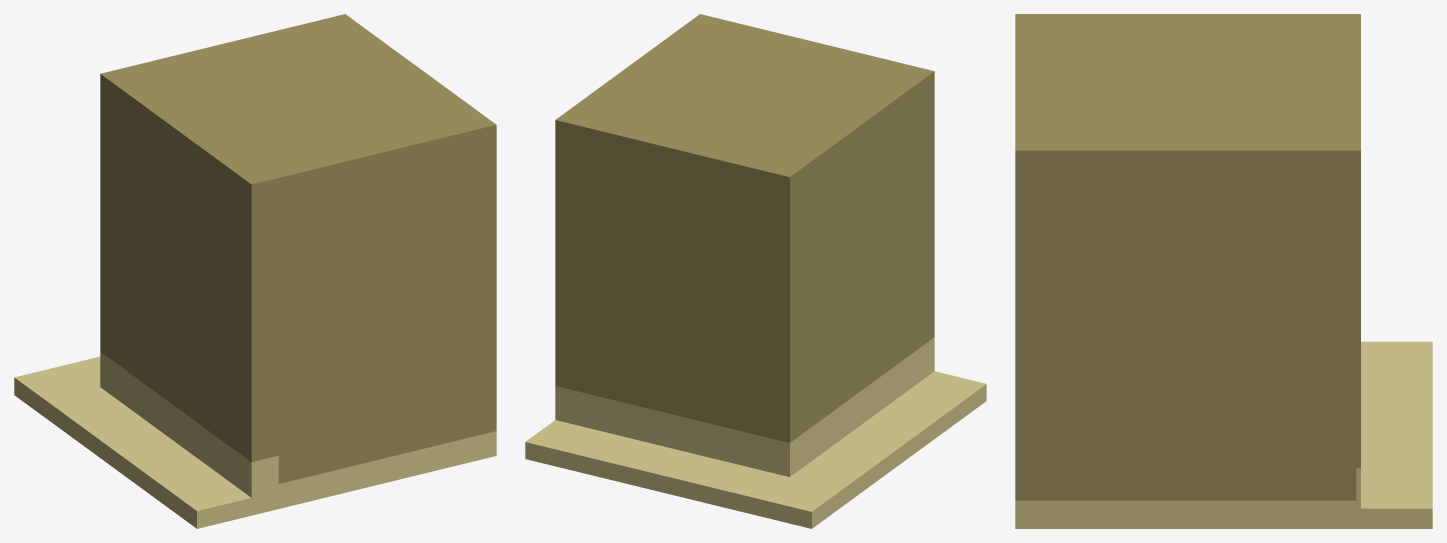
The model's file is sandtower_1.0-7.obj.
3 views of the same model, side by side, from view 1: azimuth 30°, elevation 25°; view 2: azimuth 150°, elevation 25°; view 3: azimuth 270°, elevation 25° (orthographic). The views are drawn at different scales.
Size of the model in its own units: 17.6 by 18.6 by 18.6.
Materials: 1 (1 with a texture image).
